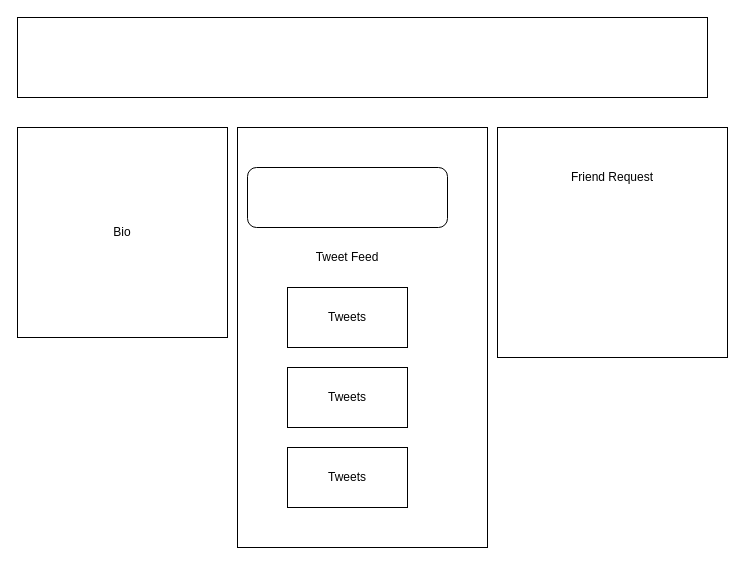
The diagram is 745 pixels wide and 565 high, and some of its shapes have lost their labels. Each missing label, with the box of its shape:
Header: (16, 16, 708, 98)
Tweet: (246, 166, 448, 228)
